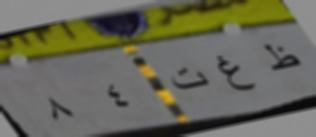4: (100, 81, 133, 117)
8: (43, 93, 77, 127)
Thaa: (262, 38, 300, 80)
ghayn: (214, 53, 256, 95)
taa: (165, 62, 209, 96)
